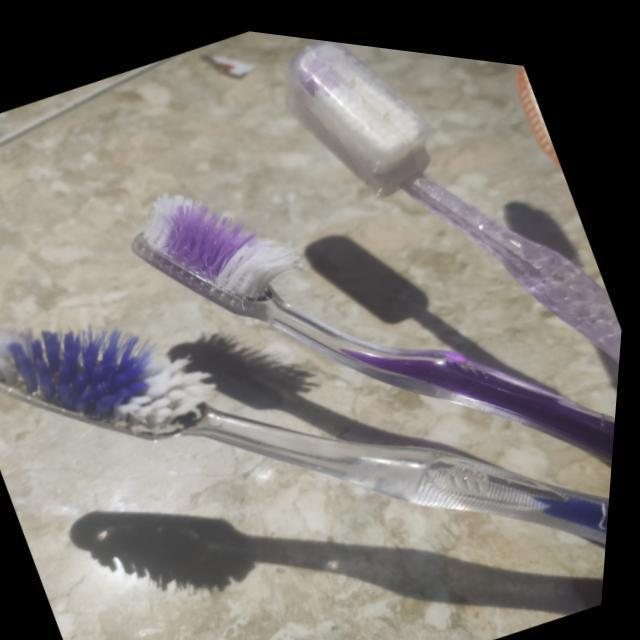toothbrush: (127, 158, 621, 460), (0, 318, 616, 536), (265, 31, 625, 366)
